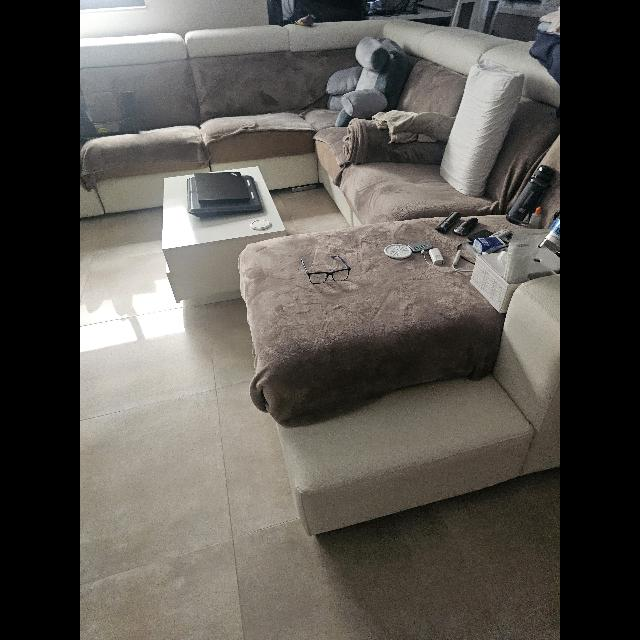glasses: (301, 256, 351, 284)
